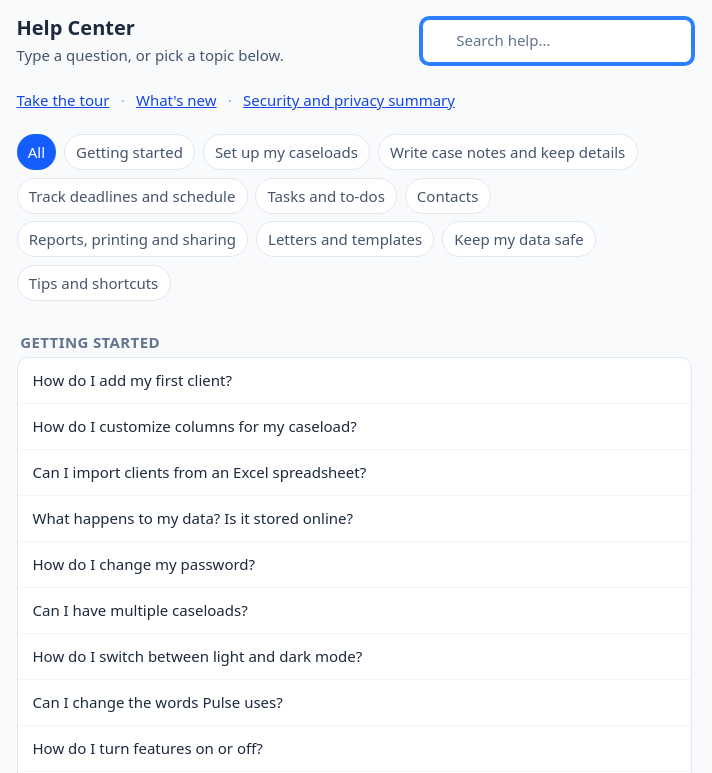
Test case: Help search › a search for a switched-off feature offers it first, above the results (Q1b)
Step 1. Type "mileage" into the search field with placeholder "Search help…" → {"x": 556, "y": 41}, box [422,19,692,63]
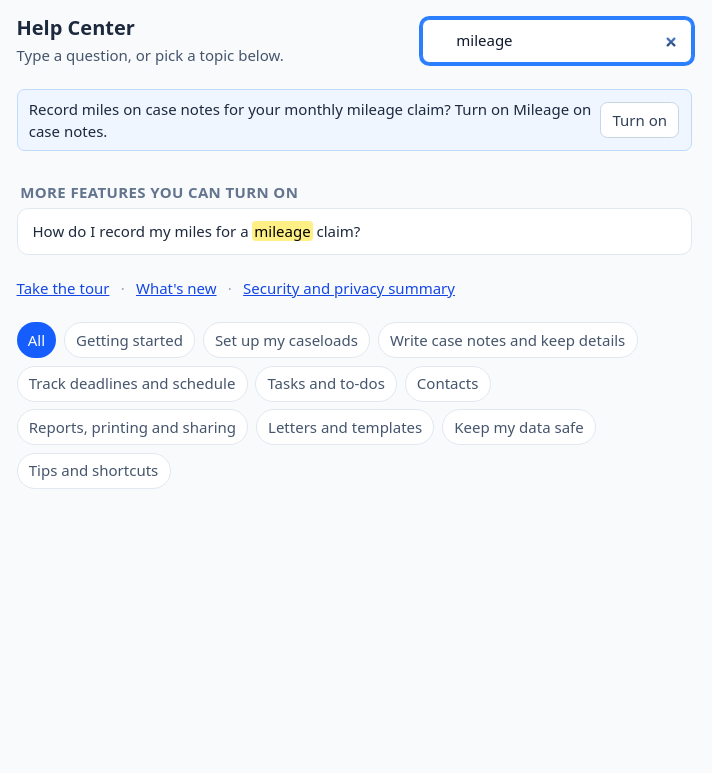
Result: the message shows "Record miles on case notes for your monthly mileage claim? Turn on Mileage on case notes." at [29,99,591,141]
Result: the button "Turn on" is shown at [600,102,679,138]
